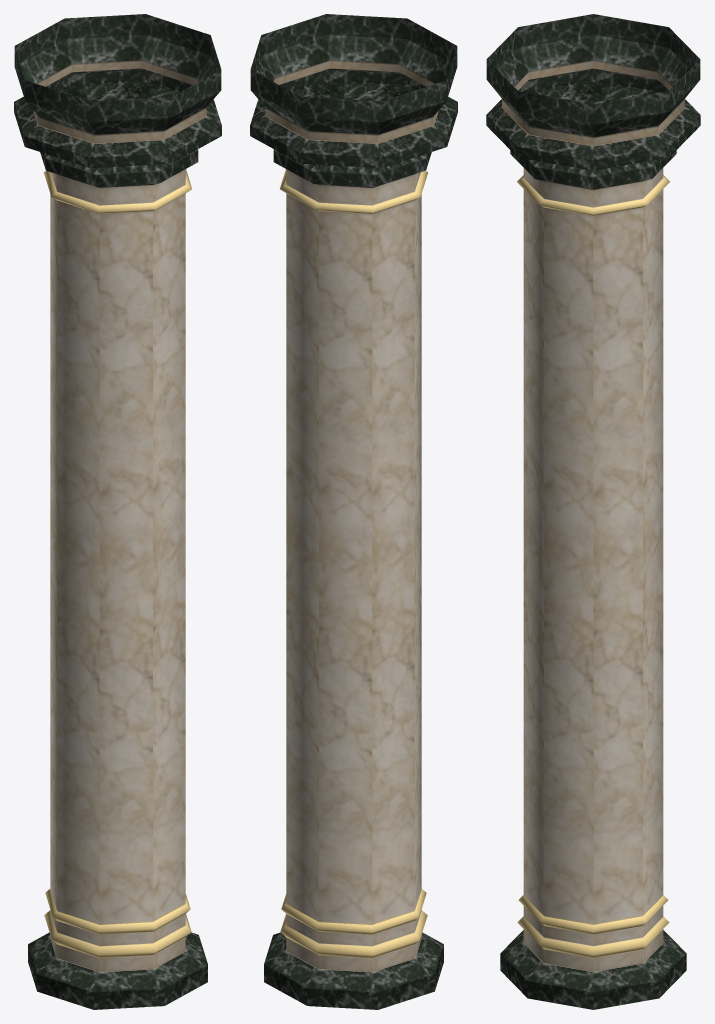
File: Tower_Base_Column_Art.glb
3 renders of one model, left to right at view 1: azimuth 30°, elevation 25°; view 2: azimuth 150°, elevation 25°; view 3: azimuth 270°, elevation 25°, orthographic.
Visible parts, largest first — view 1: Tower_Base_Column_Art; view 2: Tower_Base_Column_Art; view 3: Tower_Base_Column_Art.
Part boxes in pixels (x1,y1,x2,y2): Tower_Base_Column_Art: [14, 14, 221, 1009]; Tower_Base_Column_Art: [250, 14, 457, 1009]; Tower_Base_Column_Art: [486, 14, 700, 1009].
Size of the model in its own units: 1.56 by 7.33 by 1.56.
1 material, 1 textured.
